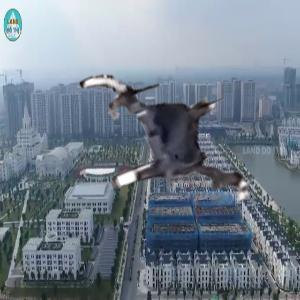drone: (70, 42, 267, 239)
